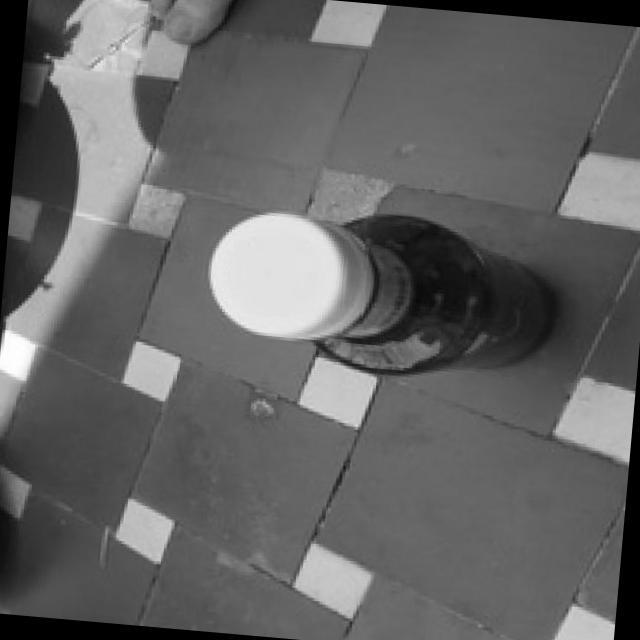good: (195, 156, 580, 398)
